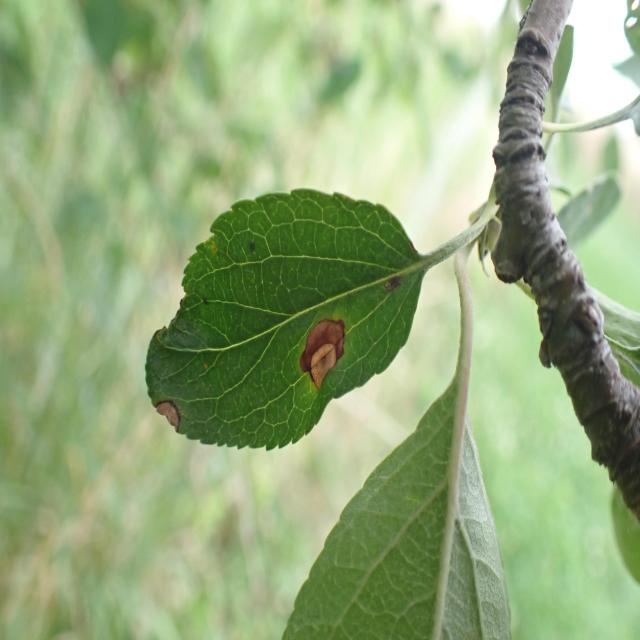Black Rot: (288, 306, 356, 390), (138, 382, 196, 457)
